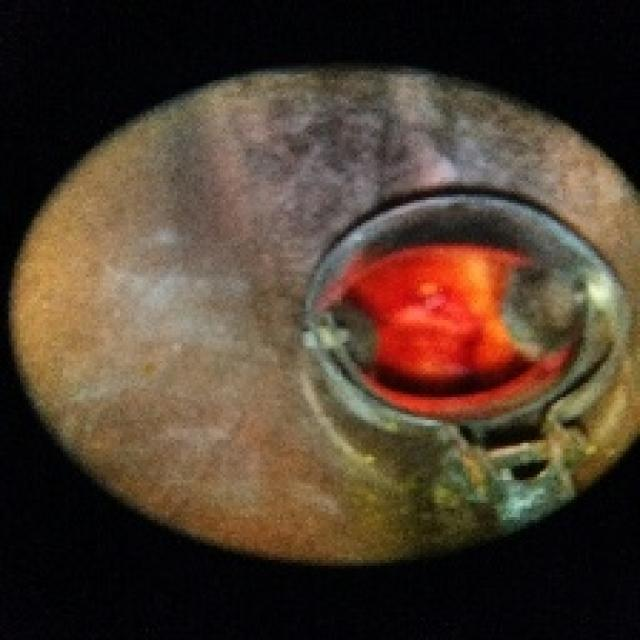type-2: (1, 90, 640, 528)
